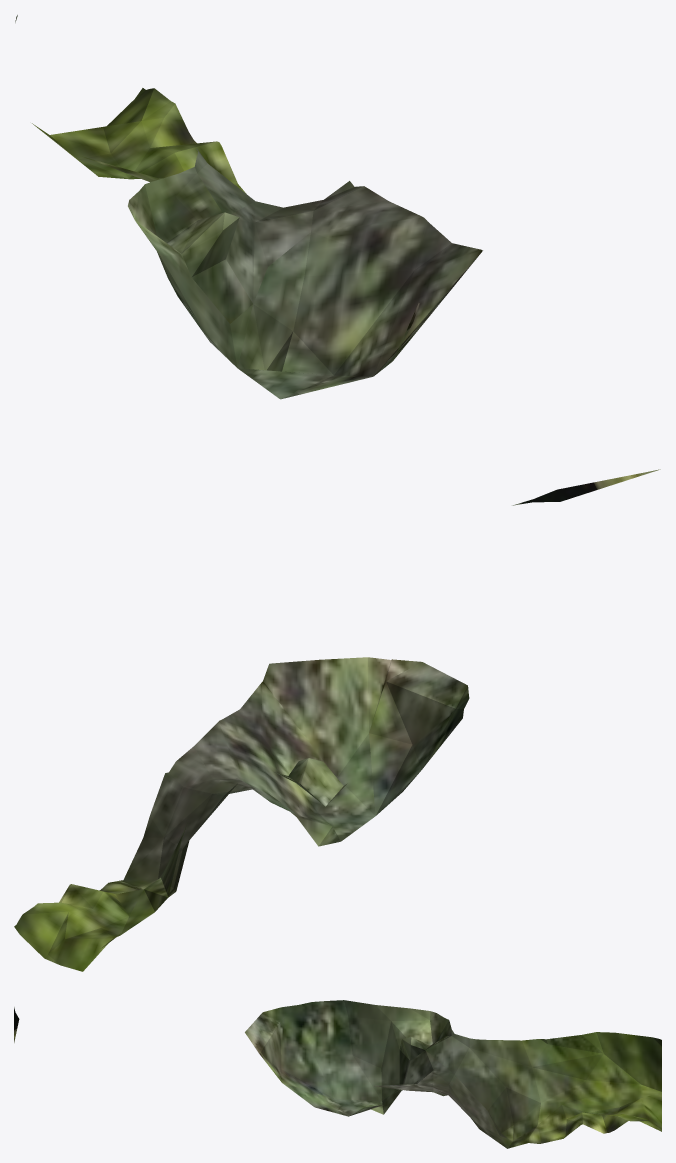
3 renders of one model, top to bottom at view 1: azimuth 30°, elevation 25°; view 2: azimuth 150°, elevation 25°; view 3: azimuth 270°, elevation 25°, orthographic. The views are drawn at different scales.
Bounding box in the file's own units: 0.7678 × 0.4282 × 2.95.
1 material, 1 textured.
